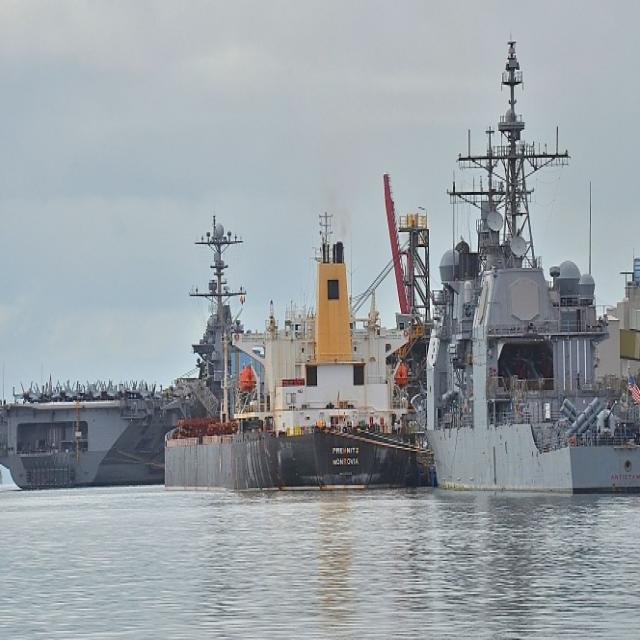Portanaves: (1, 195, 250, 498)
